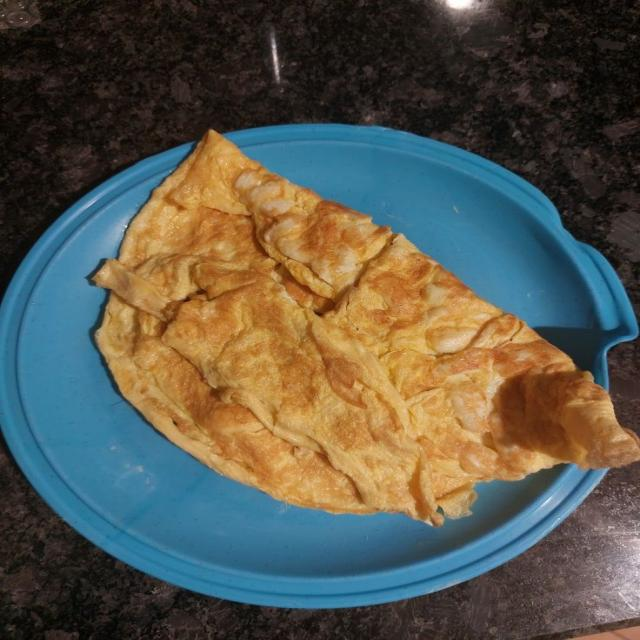omelette: (95, 132, 639, 524)
